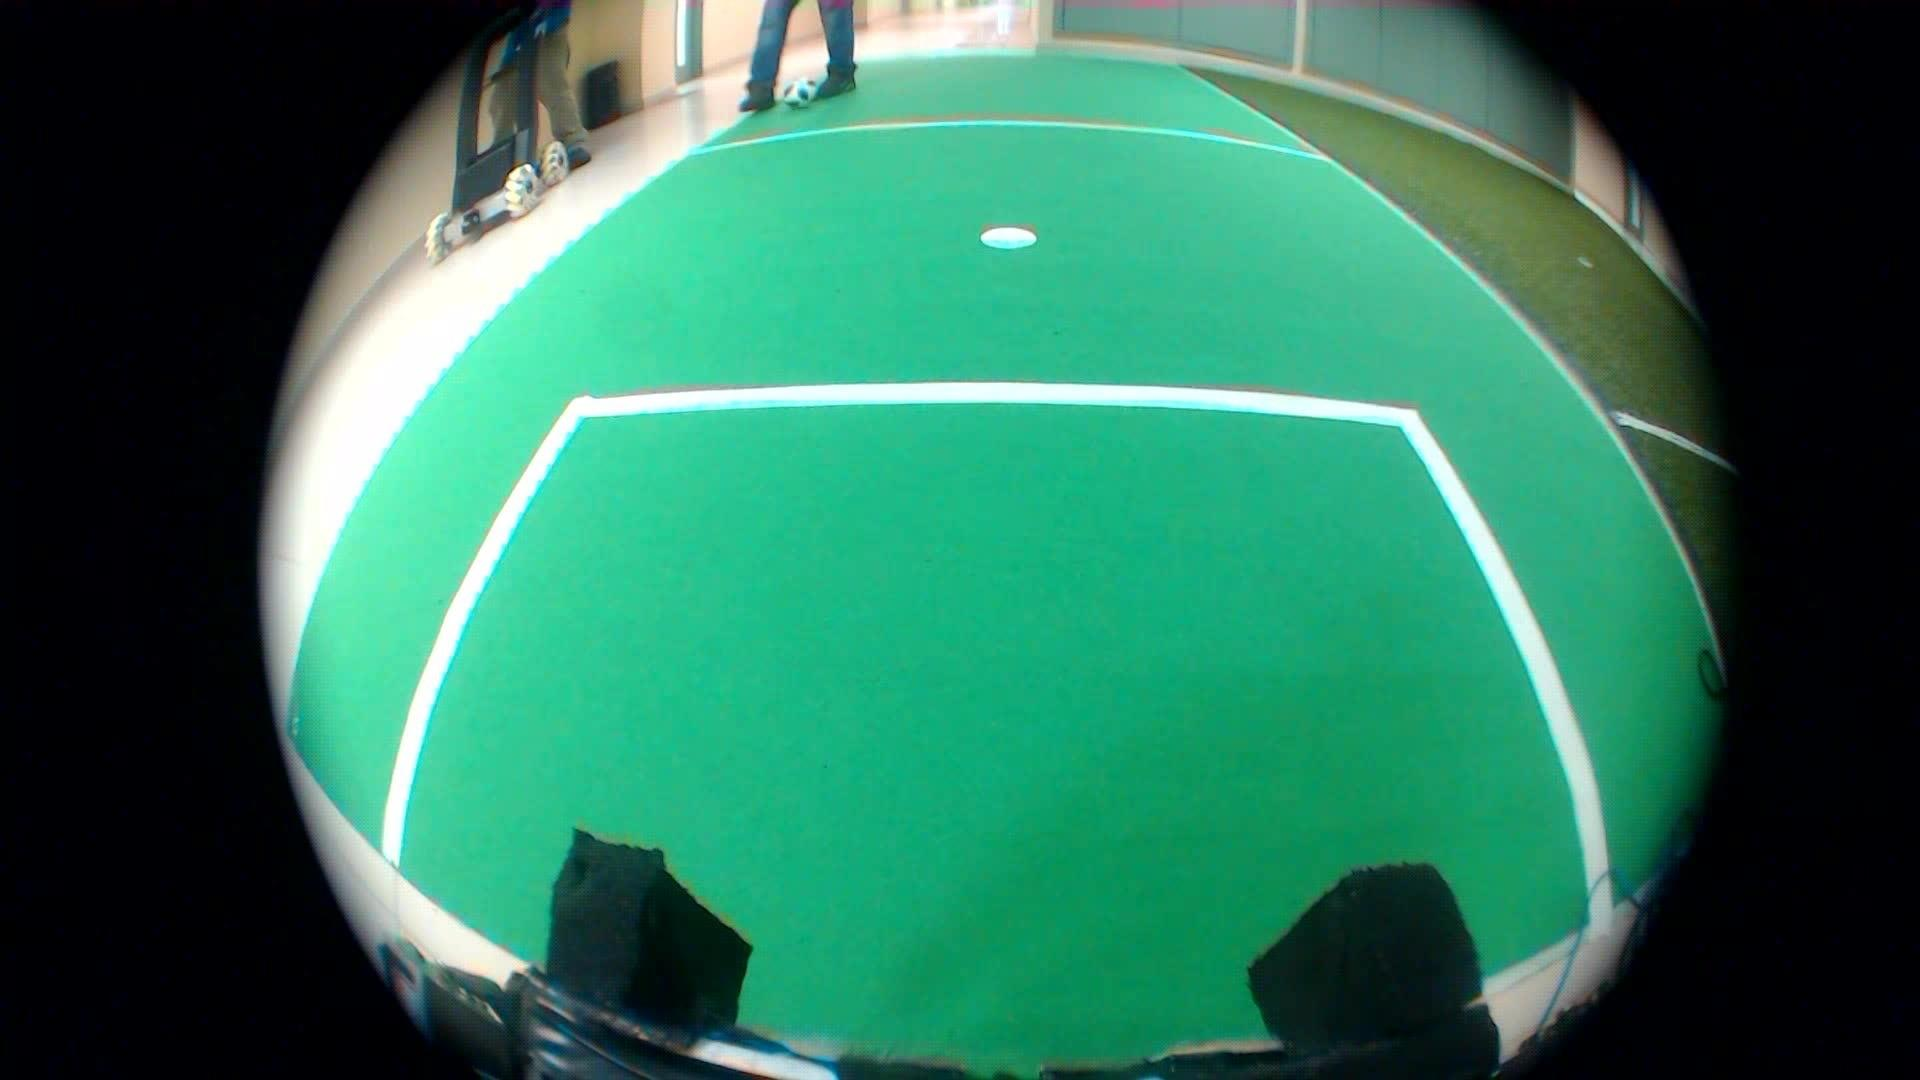ball: (782, 74, 827, 124)
